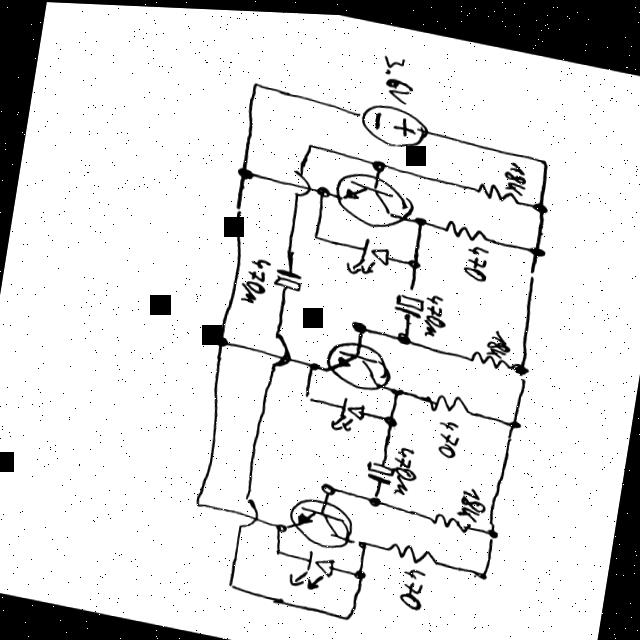capacitor: (394, 288, 426, 314), (364, 457, 395, 482), (273, 265, 304, 289)
crossover: (270, 326, 293, 369), (237, 492, 263, 526), (288, 164, 313, 195)
diode: (344, 230, 393, 277), (288, 543, 337, 590), (329, 391, 367, 432)
junction: (512, 356, 530, 372), (351, 316, 370, 331), (529, 238, 547, 253), (320, 478, 338, 493), (213, 332, 231, 346), (236, 163, 254, 177), (371, 155, 388, 169), (532, 196, 549, 209), (413, 211, 430, 224), (396, 328, 413, 341), (384, 410, 399, 424), (317, 181, 332, 195), (407, 253, 423, 266), (367, 491, 383, 504), (353, 564, 368, 577), (475, 564, 490, 576), (356, 535, 370, 547), (508, 414, 523, 425), (390, 382, 403, 394), (486, 523, 500, 534), (308, 357, 321, 368), (274, 519, 287, 530), (193, 497, 206, 508), (252, 77, 265, 87), (303, 390, 315, 400), (343, 608, 355, 618), (226, 578, 238, 588), (272, 544, 284, 554), (539, 152, 550, 161), (305, 139, 316, 148), (313, 229, 323, 238)
resistor: (383, 536, 441, 563), (423, 385, 474, 414), (474, 175, 522, 201), (442, 213, 488, 239), (428, 506, 473, 529), (468, 344, 511, 366)
source: (357, 95, 432, 149)
text: (377, 49, 420, 102), (388, 441, 422, 494), (238, 253, 273, 303), (397, 563, 429, 607), (421, 289, 451, 335), (455, 481, 489, 521), (434, 414, 463, 455), (462, 239, 492, 277), (502, 155, 529, 192), (485, 323, 513, 354)
transistor: (329, 163, 418, 230), (285, 491, 360, 550), (323, 333, 396, 391)
